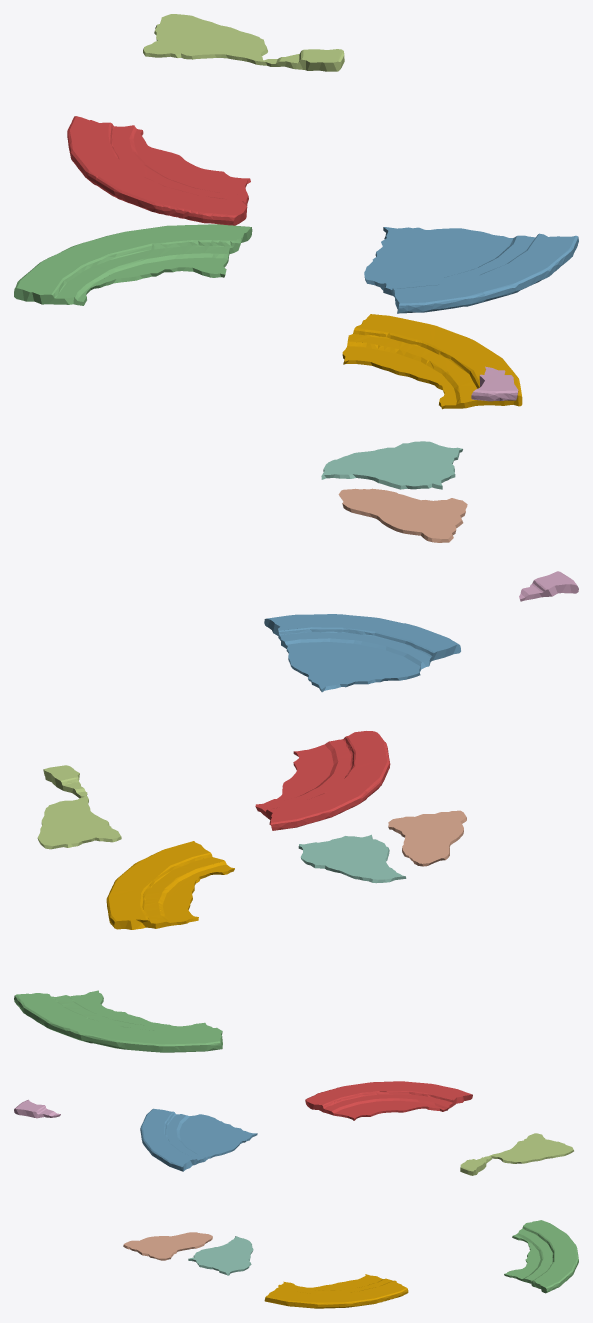
File: fractured_20_8pcs_transformed.glb
3 views of the same model, one above another, from view 1: azimuth 30°, elevation 25°; view 2: azimuth 150°, elevation 25°; view 3: azimuth 270°, elevation 25° (orthographic). The views are drawn at different scales.
Visible parts, largest first — view 1: piece_2.obj, piece_1.obj, piece_3.obj, piece_0.obj, piece_5.obj, piece_4.obj, piece_7.obj, piece_6.obj; view 2: piece_2.obj, piece_1.obj, piece_3.obj, piece_0.obj, piece_5.obj, piece_4.obj, piece_7.obj, piece_6.obj; view 3: piece_2.obj, piece_1.obj, piece_3.obj, piece_0.obj, piece_5.obj, piece_4.obj, piece_7.obj, piece_6.obj.
Boxes of the visible parts, x1=… form: piece_2.obj: x1=364, y1=227, x2=578, y2=313; piece_1.obj: x1=67, y1=116, x2=250, y2=225; piece_3.obj: x1=14, y1=224, x2=252, y2=305; piece_0.obj: x1=342, y1=314, x2=522, y2=409; piece_5.obj: x1=143, y1=14, x2=344, y2=71; piece_4.obj: x1=321, y1=441, x2=462, y2=489; piece_7.obj: x1=338, y1=488, x2=467, y2=542; piece_6.obj: x1=471, y1=366, x2=518, y2=401; piece_2.obj: x1=264, y1=614, x2=460, y2=692; piece_1.obj: x1=255, y1=731, x2=390, y2=830; piece_3.obj: x1=14, y1=990, x2=222, y2=1052; piece_0.obj: x1=106, y1=841, x2=234, y2=929; piece_5.obj: x1=37, y1=765, x2=121, y2=849; piece_4.obj: x1=298, y1=834, x2=406, y2=883; piece_7.obj: x1=388, y1=810, x2=466, y2=866; piece_6.obj: x1=519, y1=571, x2=578, y2=601; piece_2.obj: x1=140, y1=1108, x2=257, y2=1171; piece_1.obj: x1=305, y1=1081, x2=472, y2=1120; piece_3.obj: x1=504, y1=1220, x2=578, y2=1293; piece_0.obj: x1=264, y1=1274, x2=408, y2=1308; piece_5.obj: x1=460, y1=1133, x2=573, y2=1175; piece_4.obj: x1=188, y1=1236, x2=253, y2=1275; piece_7.obj: x1=123, y1=1232, x2=212, y2=1260; piece_6.obj: x1=14, y1=1099, x2=60, y2=1118.
Bounding box in the file's own units: 1 × 0.6276 × 2.45.
